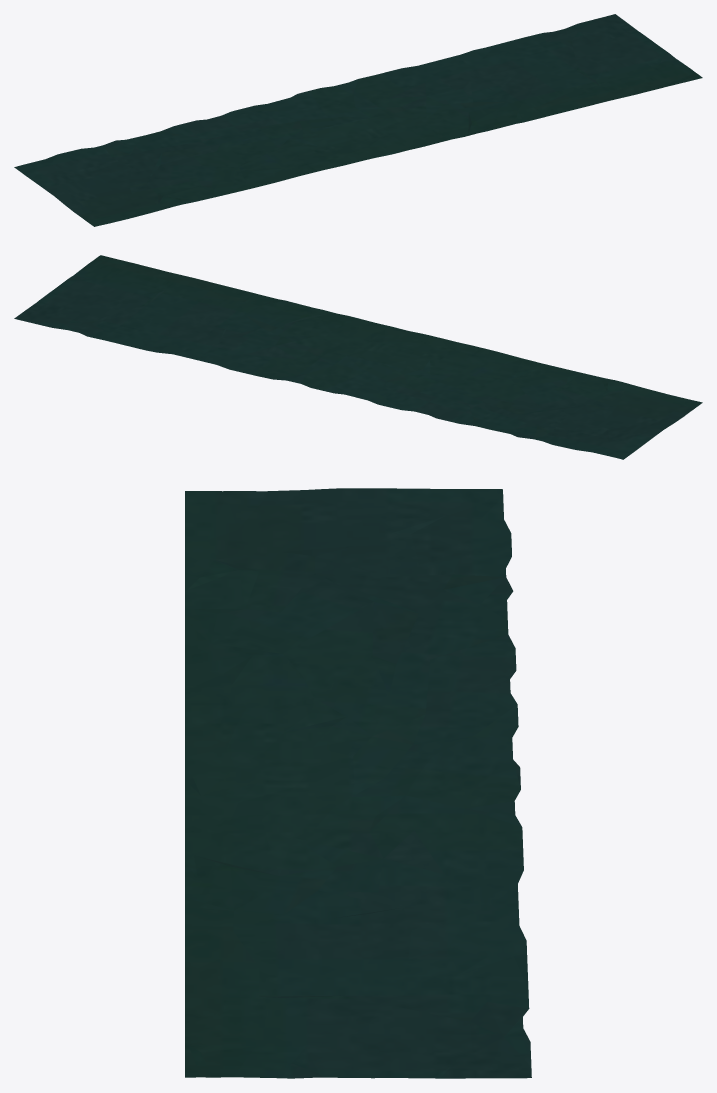
3 renders of one model, top to bottom at view 1: azimuth 30°, elevation 25°; view 2: azimuth 150°, elevation 25°; view 3: azimuth 270°, elevation 25°, orthographic. The views are drawn at different scales.
Size of the model in its own units: 209 by 0.7652 by 52.08.
1 material, 1 textured.
